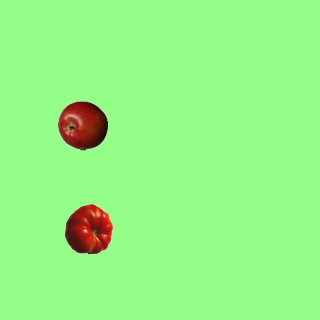Apple Braeburn: (57, 100, 107, 150)
Tomato 3: (63, 203, 113, 253)
